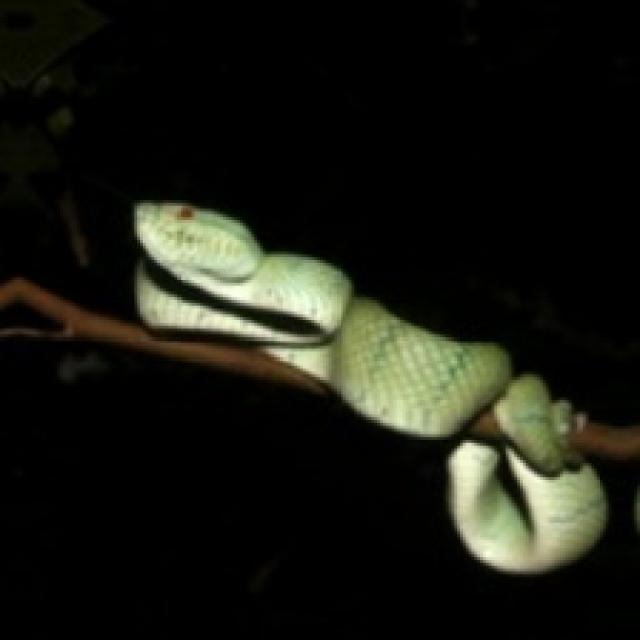north ph temple pitviper: (134, 203, 606, 571), (134, 203, 569, 474)
